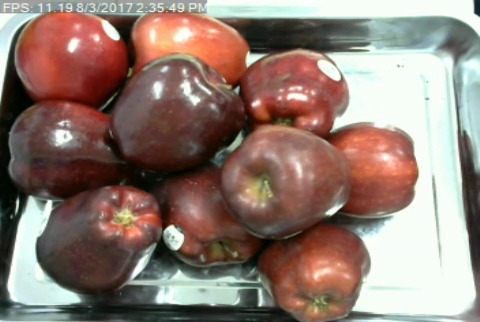Apple: (105, 52, 247, 175), (217, 123, 352, 241), (35, 183, 166, 298), (5, 98, 128, 201), (11, 7, 130, 111), (252, 219, 374, 319), (153, 160, 264, 267), (236, 46, 348, 139), (123, 8, 254, 87), (324, 118, 419, 219)
